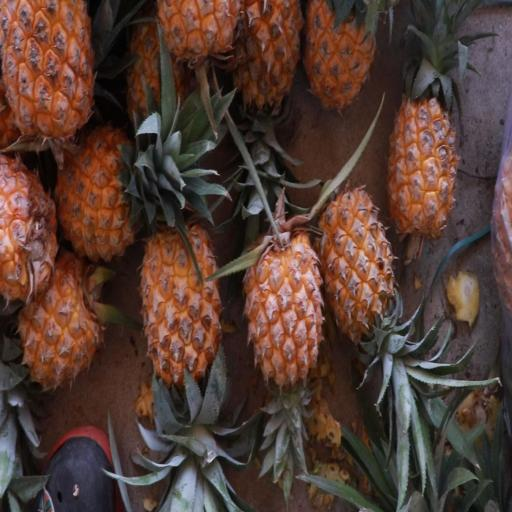Pineapple - v8 v1: (138, 217, 225, 428), (44, 123, 168, 270), (314, 184, 400, 377), (242, 217, 330, 401), (12, 243, 112, 400), (0, 2, 100, 158), (383, 58, 461, 248), (226, 2, 307, 126), (304, 0, 382, 126), (0, 154, 60, 307), (154, 0, 251, 81)
